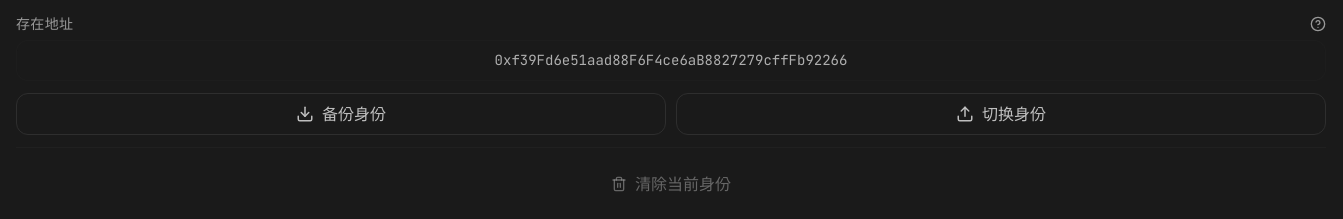
Test: IdentityPanel › Import Functionality › should have textarea with fixed rows
Click the button "切换身份": (1001, 114) [676,93,1326,135]
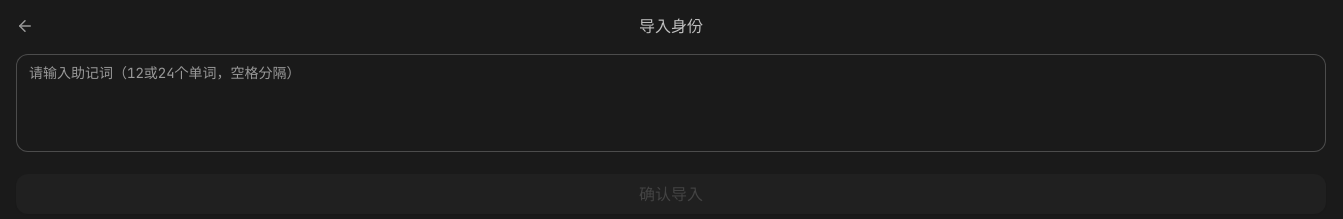
Now the text box with placeholder "请输入助记词（12或24个单词，空格分隔）" is shown, box [16,54,1326,152]
